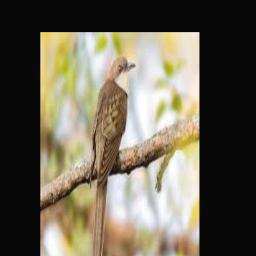Cuckoo: (91, 55, 136, 256)
